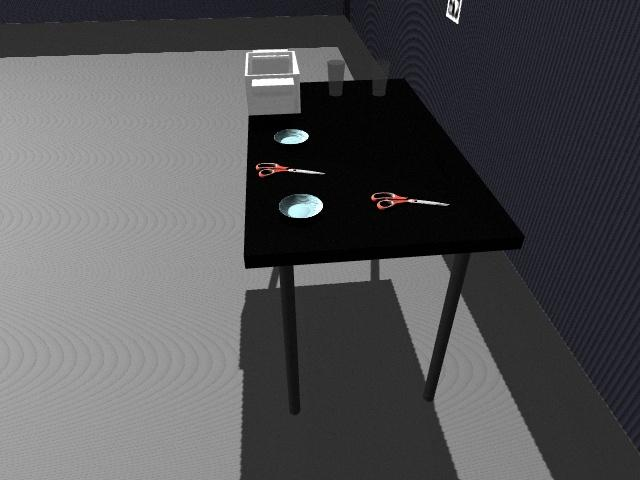cup: (371, 59, 390, 98), (327, 59, 345, 98)
plate: (277, 192, 324, 220), (272, 129, 309, 146)
scissors: (371, 192, 449, 212), (256, 162, 323, 178)
